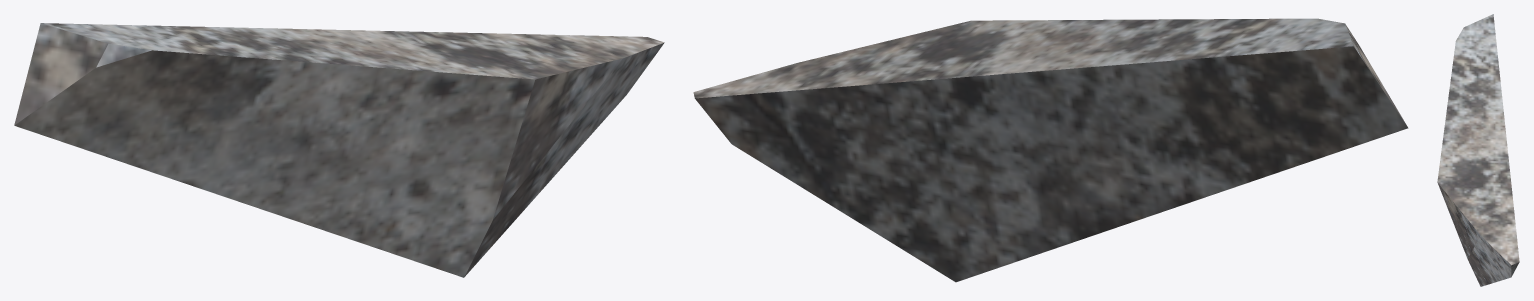
The model's file is Asteroid_Large_001_02_002_03_011.fbx.
3 views of the same model, side by side, from view 1: azimuth 30°, elevation 25°; view 2: azimuth 150°, elevation 25°; view 3: azimuth 270°, elevation 25° (orthographic). The views are drawn at different scales.
Parts seen in each view (by area): view 1: Asteroid_Large_001_02_002_03_011; view 2: Asteroid_Large_001_02_002_03_011; view 3: Asteroid_Large_001_02_002_03_011.
Part boxes in pixels (box(x1,y1,x2,y2)): Asteroid_Large_001_02_002_03_011: box(14, 23, 664, 277); Asteroid_Large_001_02_002_03_011: box(693, 18, 1408, 282); Asteroid_Large_001_02_002_03_011: box(1437, 14, 1519, 286).
Size of the model in its own units: 8.02 by 3.88 by 1.67.
